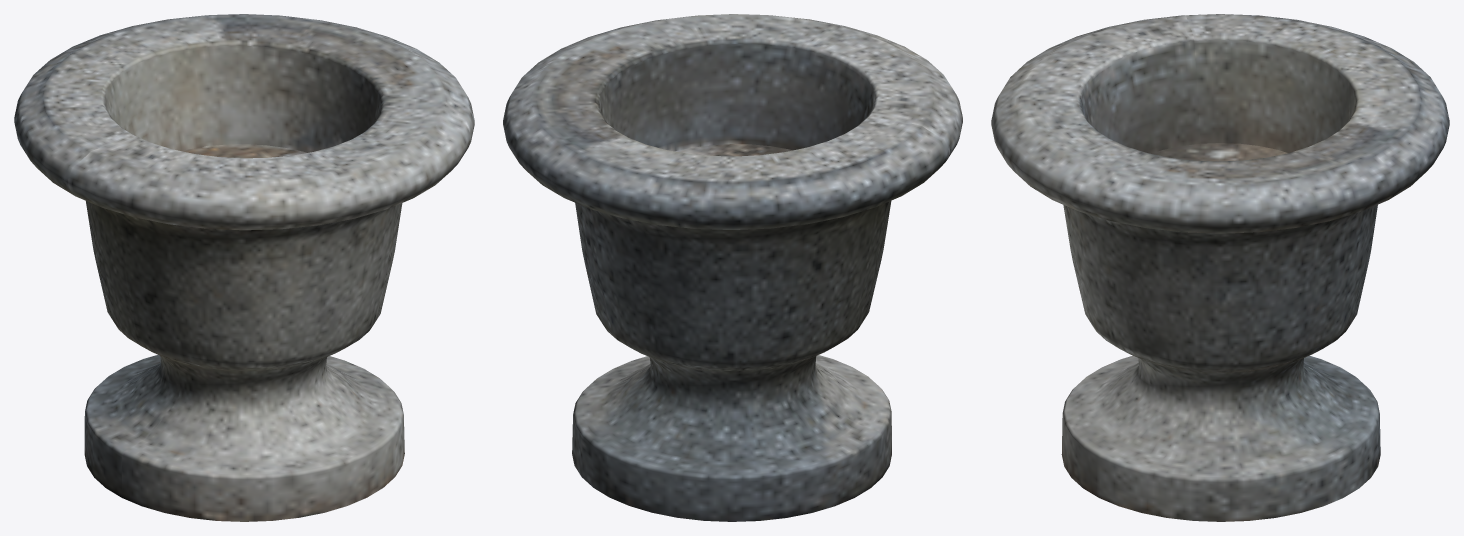
The model's file is sm_Grave_02_04.fbx.
3 renders of one model, left to right at view 1: azimuth 30°, elevation 25°; view 2: azimuth 150°, elevation 25°; view 3: azimuth 270°, elevation 25°, orthographic.
Visible parts, largest first — view 1: sm_Grave_02_04_LOD0; view 2: sm_Grave_02_04_LOD0; view 3: sm_Grave_02_04_LOD0.
Part boxes in pixels (box(x1,y1,x2,y2)): sm_Grave_02_04_LOD0: box(14, 14, 474, 521); sm_Grave_02_04_LOD0: box(503, 14, 962, 521); sm_Grave_02_04_LOD0: box(991, 14, 1449, 521).
Size of the model in its own units: 27.91 by 27.9 by 24.07.
